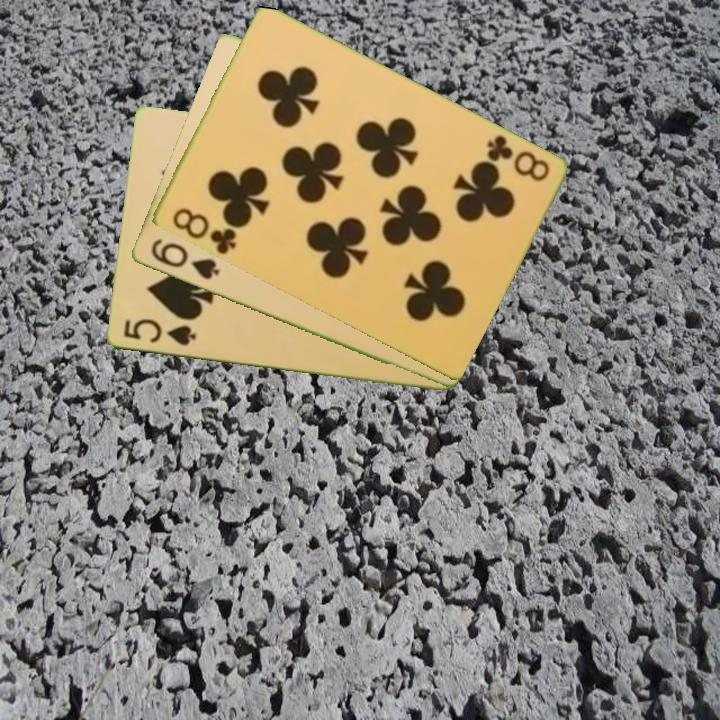5s: (119, 316, 199, 349)
6s: (147, 235, 222, 283)
8c: (168, 204, 243, 257), (482, 132, 552, 185)
